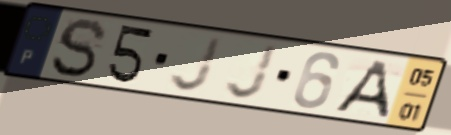5: (105, 22, 155, 85)
6: (290, 50, 341, 111)
A: (329, 58, 391, 121)
J: (222, 41, 281, 102), (167, 34, 226, 94)
S: (47, 16, 111, 80)
